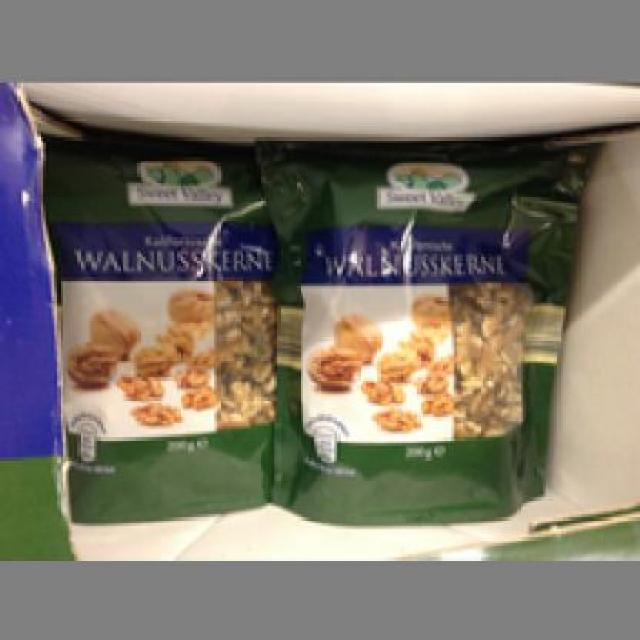Nuts: (249, 134, 600, 523), (32, 127, 288, 524)
